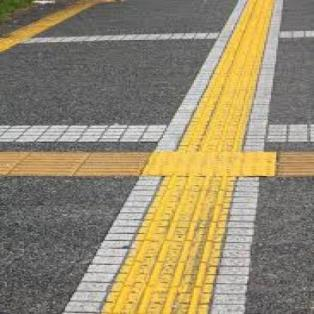Podoctatil: (4, 0, 314, 313)
